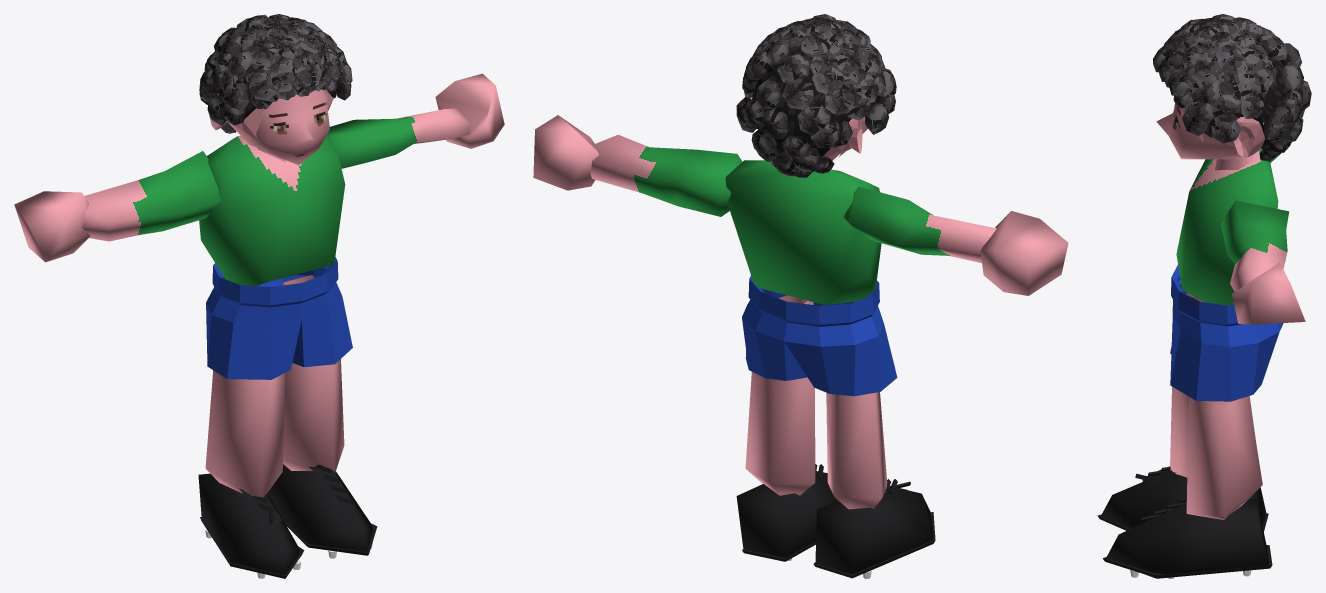
Rendered from 04-cacheado-curto_preto.glb.
3 views of the same model, side by side, from view 1: azimuth 30°, elevation 25°; view 2: azimuth 150°, elevation 25°; view 3: azimuth 270°, elevation 25° (orthographic). The views are drawn at different scales.
Visible parts, largest first — view 1: Camisa_Tronco, Bermuda, Cabelo, Perna.R, Braco.R, Perna.L, Chuteira.R, Chuteira.L, Braco.L, Mao.R, Cabeca, Mao.L (+2 smaller); view 2: Cabelo, Camisa_Tronco, Bermuda, Perna.L, Braco.L, Chuteira.R, Perna.R, Braco.R, Mao.R, Chuteira.L, Mao.L, Chuteira_Sola.R; view 3: Cabelo, Bermuda, Chuteira.L, Camisa_Tronco, Perna.L, Braco.L, Mao.L, Chuteira.R, Cabeca, Perna.R, Chuteira_Sola.L, Cranio (+4 smaller).
Boxes of the visible parts, box(x1,y1,x2,y2) form: Camisa_Tronco: box(199, 135, 345, 285); Bermuda: box(206, 257, 352, 379); Cabelo: box(199, 14, 352, 133); Perna.R: box(205, 370, 284, 501); Braco.R: box(82, 151, 221, 241); Perna.L: box(283, 275, 344, 472); Chuteira.R: box(198, 473, 302, 574); Chuteira.L: box(267, 464, 373, 551); Braco.L: box(326, 108, 471, 168); Mao.R: box(14, 191, 89, 262); Cabeca: box(230, 89, 329, 165); Mao.L: box(435, 73, 504, 148); Cabelo: box(736, 14, 896, 177); Camisa_Tronco: box(725, 160, 881, 304); Bermuda: box(742, 276, 897, 396); Perna.L: box(745, 295, 815, 495); Braco.L: box(590, 134, 742, 216); Chuteira.R: box(815, 486, 933, 573); Perna.R: box(826, 392, 887, 509); Braco.R: box(843, 186, 996, 262); Mao.R: box(980, 211, 1068, 295); Chuteira.L: box(736, 471, 837, 557); Mao.L: box(533, 115, 599, 190); Chuteira_Sola.R: box(813, 512, 935, 578); Cabelo: box(1153, 14, 1311, 161); Bermuda: box(1170, 265, 1283, 401); Chuteira.L: box(1106, 499, 1269, 578); Camisa_Tronco: box(1176, 148, 1278, 305); Perna.L: box(1186, 396, 1262, 519); Braco.L: box(1221, 200, 1289, 291); Mao.L: box(1232, 262, 1305, 324); Chuteira.R: box(1101, 470, 1266, 528); Cabeca: box(1156, 103, 1247, 159); Perna.R: box(1170, 293, 1255, 477); Chuteira_Sola.L: box(1103, 545, 1272, 578); Cranio: box(1199, 116, 1264, 159).
Size of the model in its own units: 0.4523 by 0.4551 by 0.1663.
3 materials, 3 textured.
